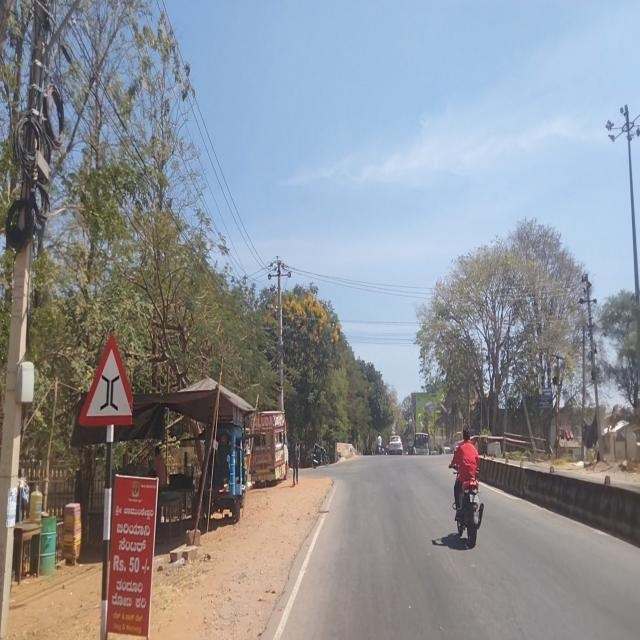bien_nguy_hiem: (80, 332, 134, 428)
